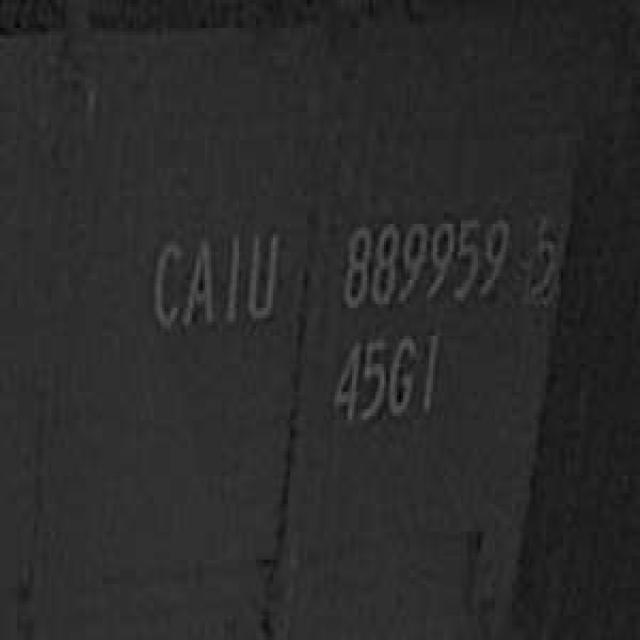dv: (522, 199, 568, 308)
owner: (143, 217, 282, 339)
serial: (335, 203, 512, 318)
size: (328, 325, 446, 434)
